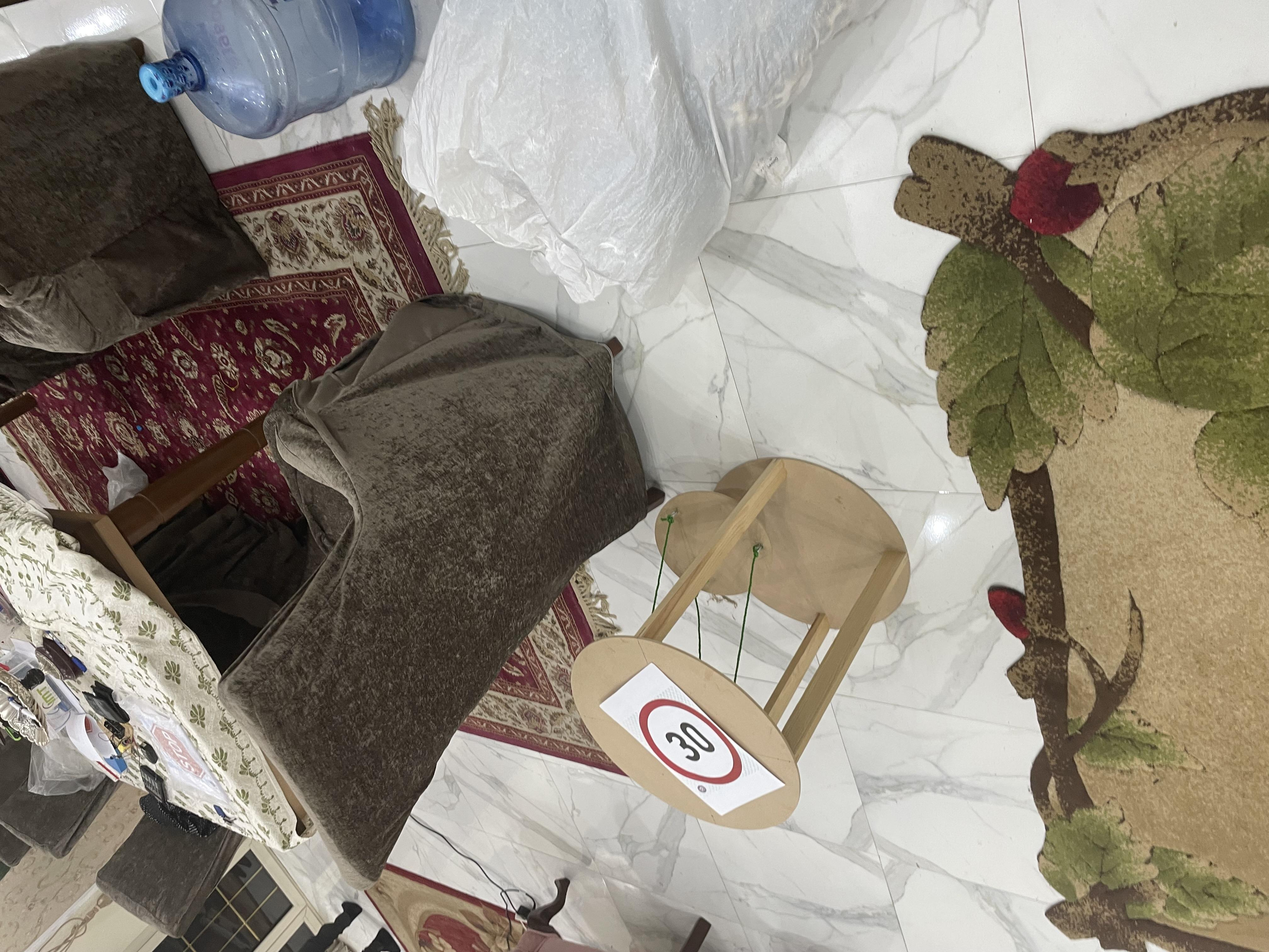30-speed: (202, 470, 341, 562)
